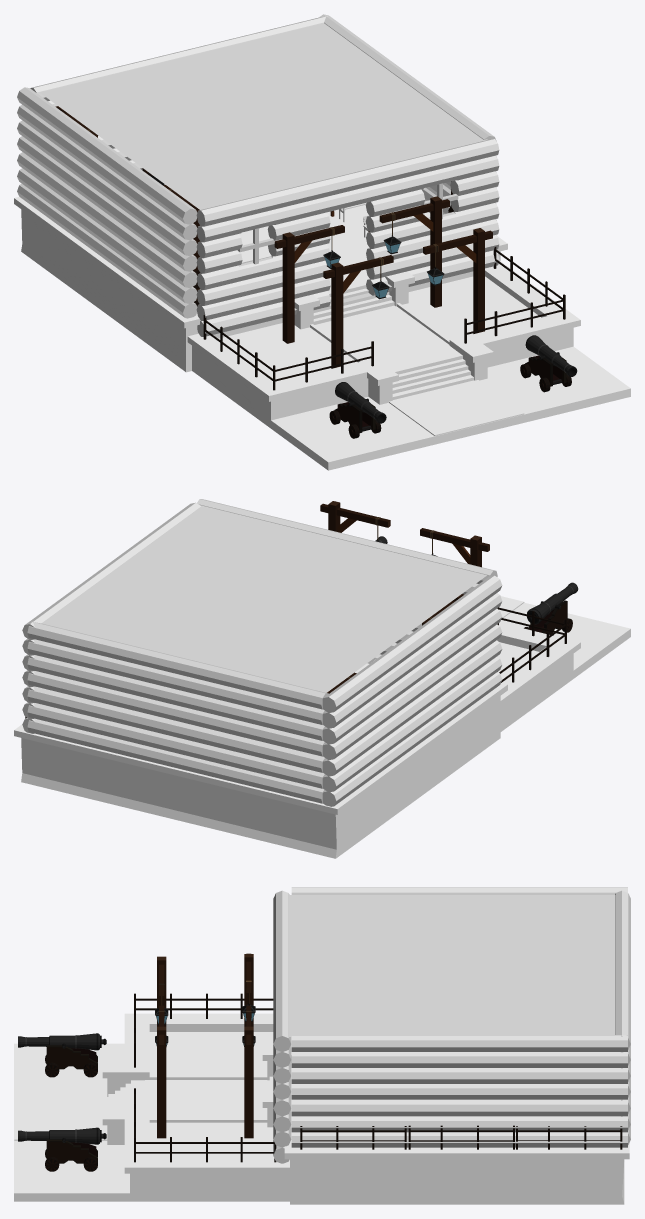
Rendered from wood_scen.FBX.
3 renders of one model, top to bottom at view 1: azimuth 30°, elevation 25°; view 2: azimuth 150°, elevation 25°; view 3: azimuth 270°, elevation 25°, orthographic.
Parts seen in each view (by area): view 1: wood_scen, Cylinder.007, Plane; view 2: Cylinder.007, Plane, wood_scen; view 3: wood_scen, Cylinder.007, Plane.
Part boxes in pixels (x1=…): wood_scen: x1=14, y1=106, x2=630, y2=470; Cylinder.007: x1=17, y1=14, x2=499, y2=336; Plane: x1=40, y1=23, x2=487, y2=209; Cylinder.007: x1=22, y1=499, x2=502, y2=806; Plane: x1=42, y1=505, x2=486, y2=692; wood_scen: x1=14, y1=501, x2=630, y2=858; wood_scen: x1=14, y1=953, x2=629, y2=1204; Cylinder.007: x1=273, y1=887, x2=630, y2=1163; Plane: x1=289, y1=895, x2=615, y2=1036.
Size of the model in its own units: 1467 by 701 by 2391.
